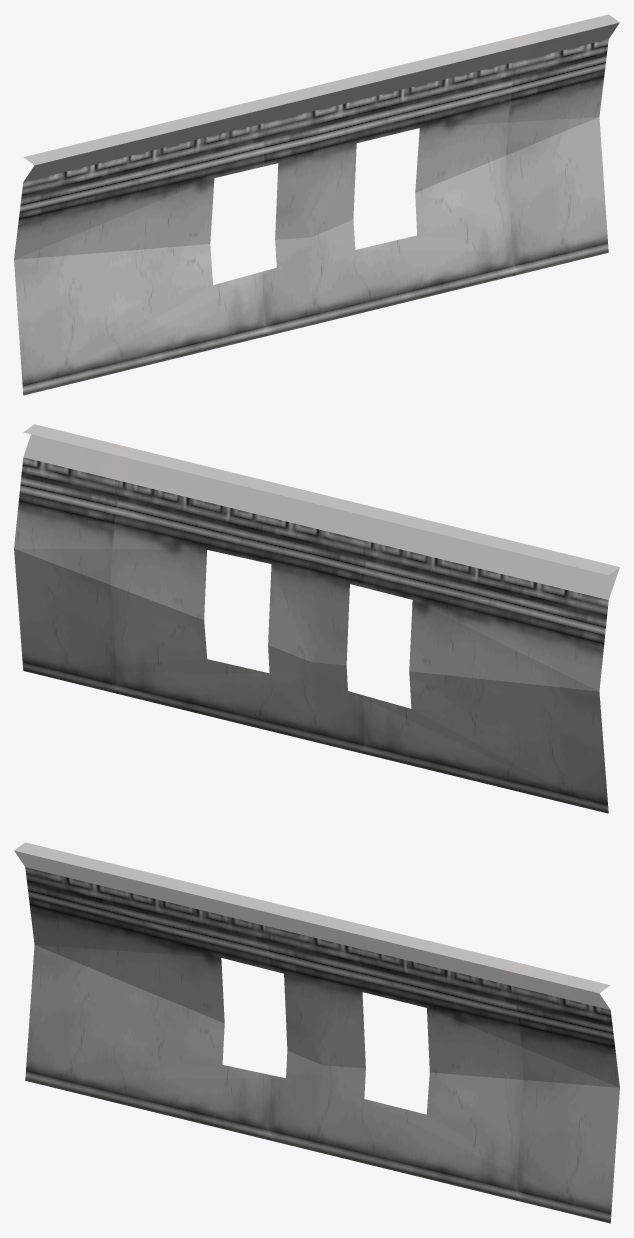
File: W_A3_xffx [Verziert2]_196.glb
The picture shows the model from 3 angles, top to bottom: view 1: azimuth 30°, elevation 25°; view 2: azimuth 150°, elevation 25°; view 3: azimuth 330°, elevation 25°; orthographic projection.
Parts seen in each view (by area): view 1: polySurfaceShape833, polySurfaceShape1008; view 2: polySurfaceShape833, polySurfaceShape1008; view 3: polySurfaceShape833, polySurfaceShape1008.
Part boxes in pixels (left/top/right/bottom): polySurfaceShape833: left=14, top=39, right=608, bottom=395; polySurfaceShape1008: left=23, top=14, right=619, bottom=181; polySurfaceShape833: left=14, top=457, right=608, bottom=813; polySurfaceShape1008: left=23, top=424, right=619, bottom=599; polySurfaceShape833: left=25, top=867, right=619, bottom=1223; polySurfaceShape1008: left=14, top=842, right=610, bottom=1009.
Bounding box in the file's own units: 1 × 0.3891 × 0.0607.
Materials: 2 (2 with a texture image).
